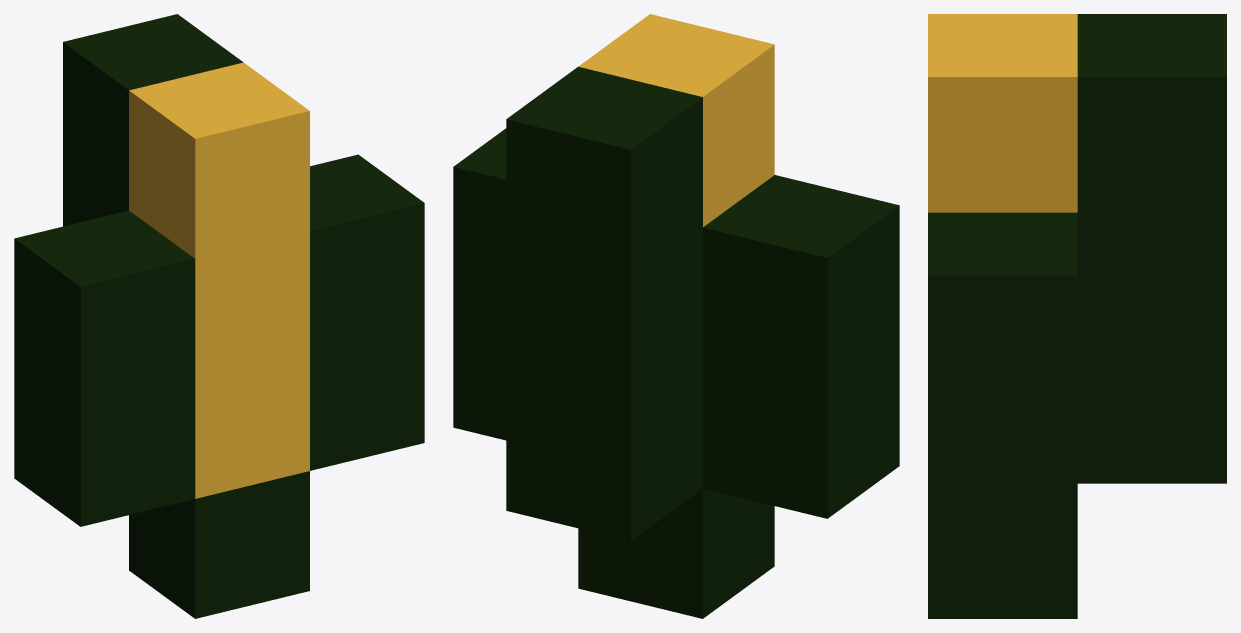
Rendered from corn.dae.
3 renders of one model, left to right at view 1: azimuth 30°, elevation 25°; view 2: azimuth 150°, elevation 25°; view 3: azimuth 270°, elevation 25°, orthographic. The views are drawn at different scales.
Visible parts, largest first — view 1: PlaneCOL; view 2: PlaneCOL; view 3: PlaneCOL.
Boxes of the visible parts, x1=… form: PlaneCOL: x1=14, y1=14, x2=424, y2=618; PlaneCOL: x1=453, y1=14, x2=899, y2=618; PlaneCOL: x1=928, y1=14, x2=1226, y2=618.
Bounding box in the file's own units: 0.3 × 0.2 × 0.4.
